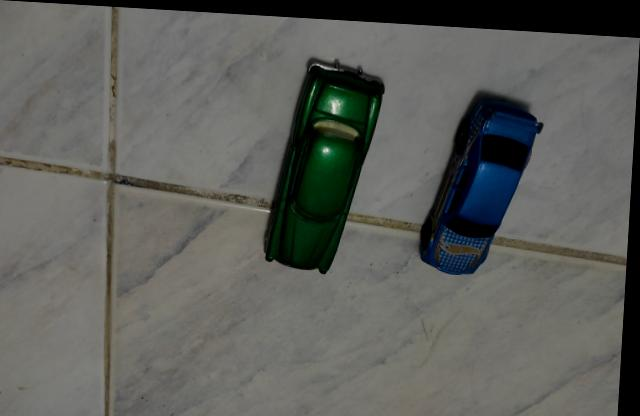04_MERZEDES: (419, 84, 545, 269)
06_MASERATI: (266, 53, 388, 269)
